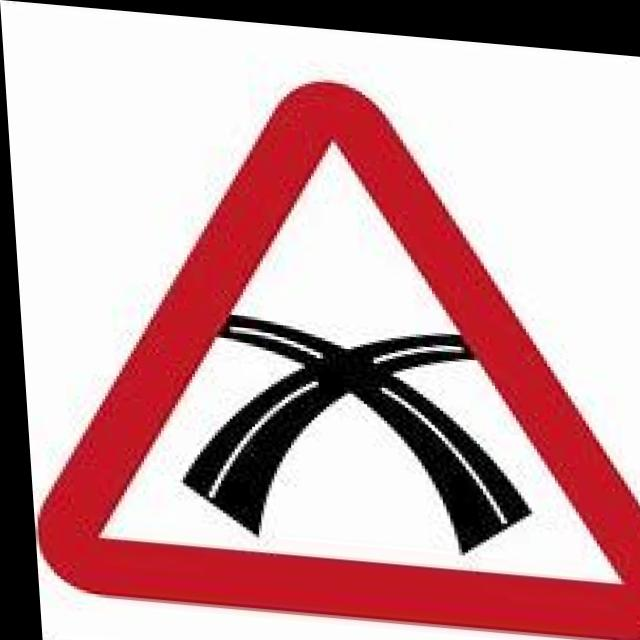CROSS_ROAD: (5, 42, 640, 637)
